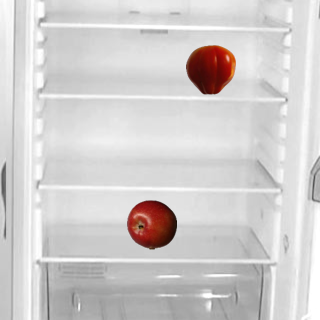Apple Braeburn: (126, 199, 176, 249)
Tomato 1: (185, 44, 235, 94)
